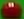brown: (0, 0, 24, 19)
